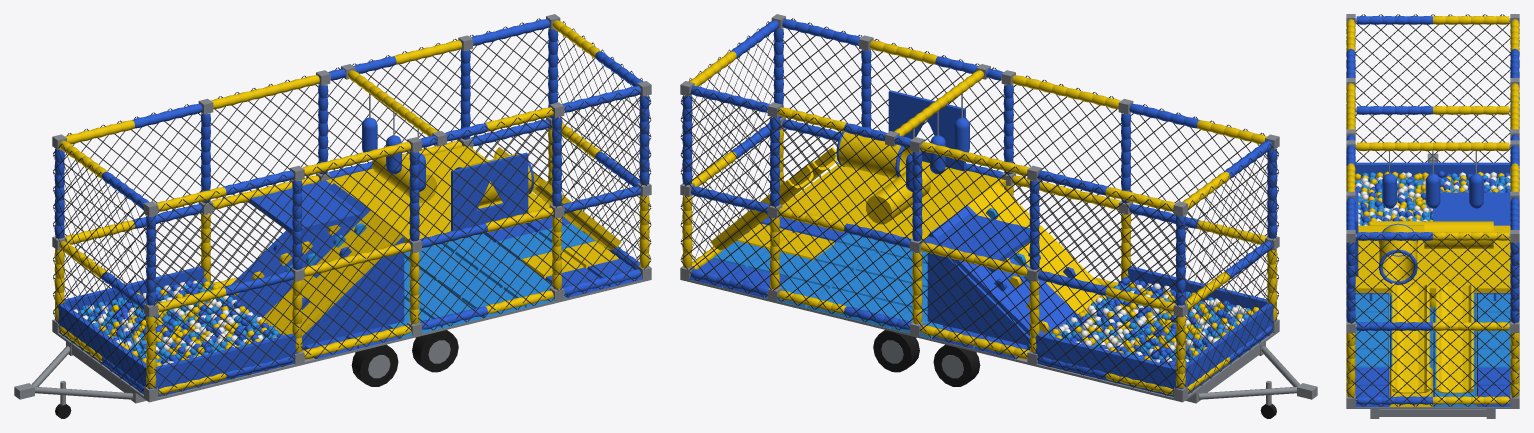
The model's file is mini.glb.
3 renders of one model, left to right at view 1: azimuth 30°, elevation 25°; view 2: azimuth 150°, elevation 25°; view 3: azimuth 270°, elevation 25°, orthographic. The views are drawn at different scales.
Parts seen in each view (by area): view 1: isotubo, rede, plataforma, piso, acolchoado, metal, bolinhas, borracha, plastico; view 2: isotubo, rede, plataforma, piso, acolchoado, metal, bolinhas, plastico, borracha; view 3: isotubo, rede, plataforma, piso, plastico, acolchoado, bolinhas, metal.
Part boxes in pixels (bbox=[...]): isotubo: bbox=[54, 19, 649, 394]; rede: bbox=[53, 18, 651, 395]; plataforma: bbox=[228, 146, 551, 349]; piso: bbox=[304, 216, 642, 358]; acolchoado: bbox=[55, 117, 534, 396]; metal: bbox=[14, 14, 651, 405]; bolinhas: bbox=[73, 278, 283, 366]; borracha: bbox=[55, 330, 458, 418]; plastico: bbox=[234, 147, 621, 309]; isotubo: bbox=[682, 19, 1277, 394]; rede: bbox=[680, 18, 1278, 395]; plataforma: bbox=[780, 90, 1100, 349]; piso: bbox=[689, 216, 1027, 358]; acolchoado: bbox=[836, 117, 1276, 396]; metal: bbox=[680, 14, 1317, 405]; bolinhas: bbox=[1049, 277, 1258, 366]; plastico: bbox=[710, 147, 1075, 333]; borracha: bbox=[873, 330, 1276, 418]; isotubo: bbox=[1346, 16, 1519, 405]; rede: bbox=[1346, 14, 1519, 406]; plataforma: bbox=[1355, 188, 1510, 300]; piso: bbox=[1355, 293, 1510, 406]; plastico: bbox=[1392, 217, 1473, 393]; acolchoado: bbox=[1355, 162, 1510, 284]; bolinhas: bbox=[1355, 170, 1510, 225]; metal: bbox=[1346, 14, 1519, 418].
Size of the model in its own units: 0.7 by 0.27 by 0.2.
9 materials, 8 textured.
